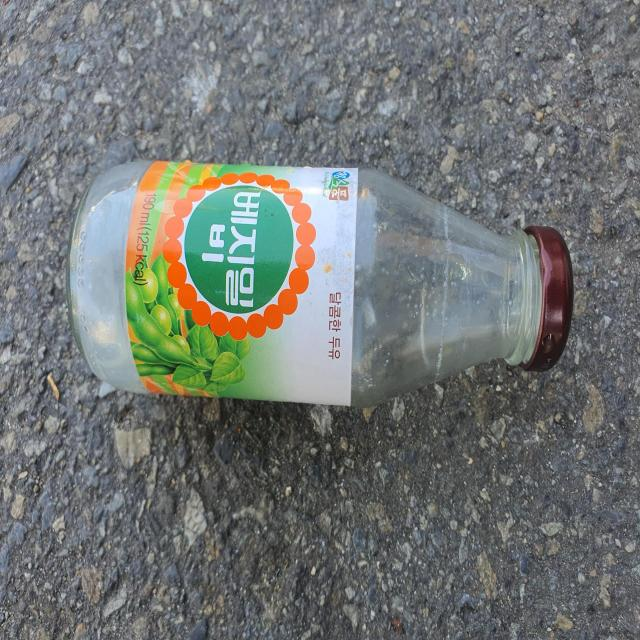glass: (67, 160, 574, 407)
